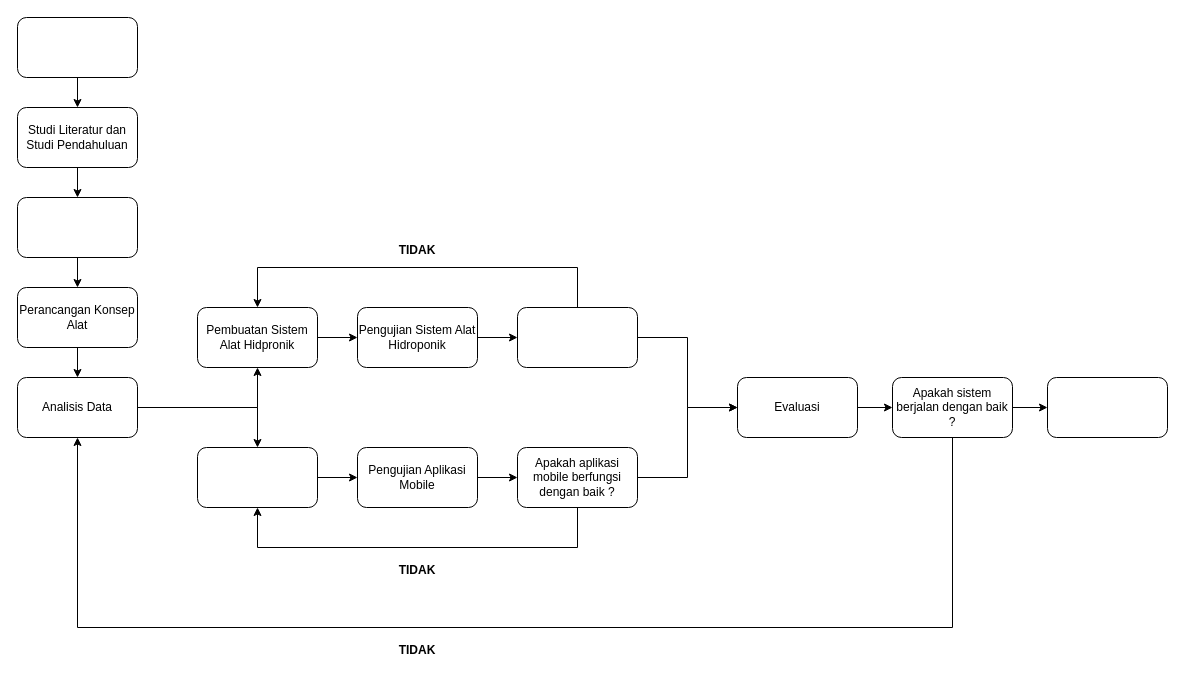
The diagram is 1185 pixels wide and 675 high, and some of its shapes have lost their labels. Here are the shapes that lost their labels. From the top down, the centre of each, then its label:
pixel 77 47: Mulai
pixel 77 227: Analisis Kebutuhan
pixel 577 337: Apakah alat berfungsi dengan baik ?
pixel 1107 407: Selesai
pixel 257 477: Pembuatan Aplikasi Mobile Monitoring
